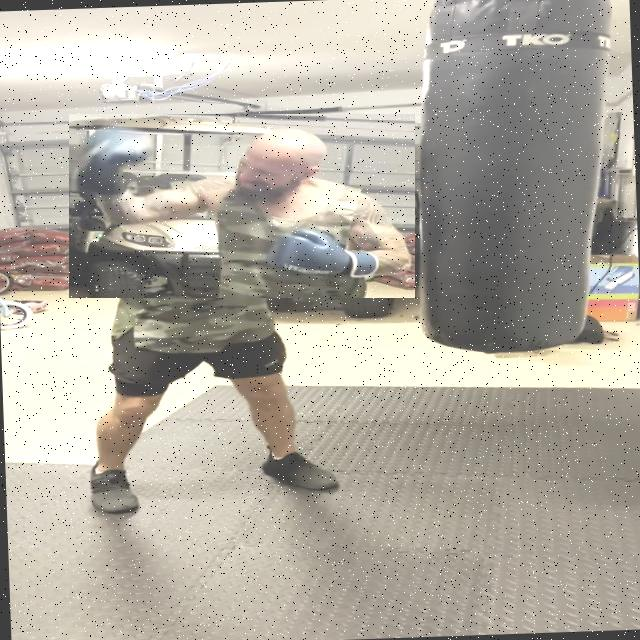punch: (69, 114, 415, 298)
